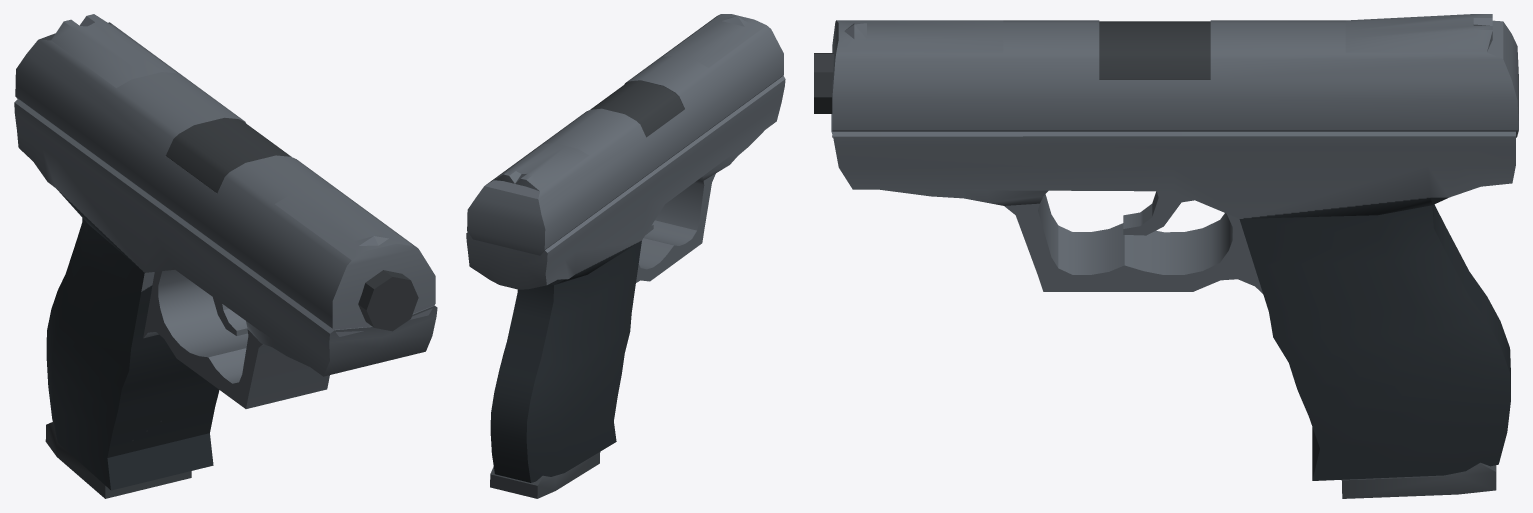
File: pistol_world.glb
3 views of the same model, side by side, from view 1: azimuth 30°, elevation 25°; view 2: azimuth 150°, elevation 25°; view 3: azimuth 270°, elevation 25° (orthographic). The views are drawn at different scales.
Parts seen in each view (by area): view 1: pistol_world; view 2: pistol_world; view 3: pistol_world.
Part boxes in pixels (x1=…): pistol_world: x1=14, y1=14, x2=437, y2=498; pistol_world: x1=466, y1=14, x2=785, y2=498; pistol_world: x1=814, y1=14, x2=1518, y2=498.
Bounding box in the file's own units: 0.0466 × 0.1737 × 0.2444.
Materials: 1 (1 with a texture image).
